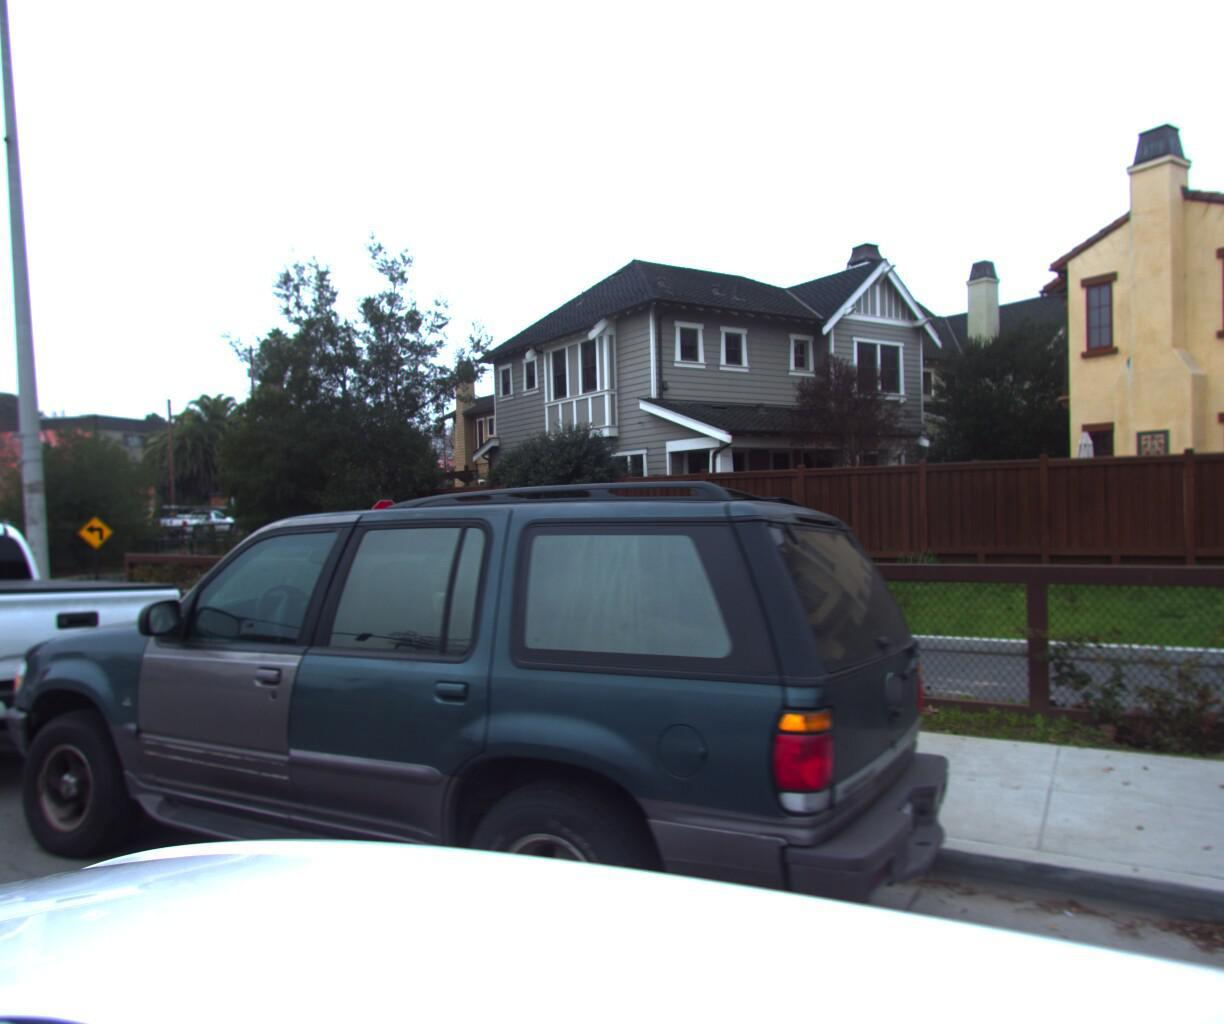car: (0, 454, 964, 1024), (0, 506, 211, 842), (156, 503, 242, 538)
